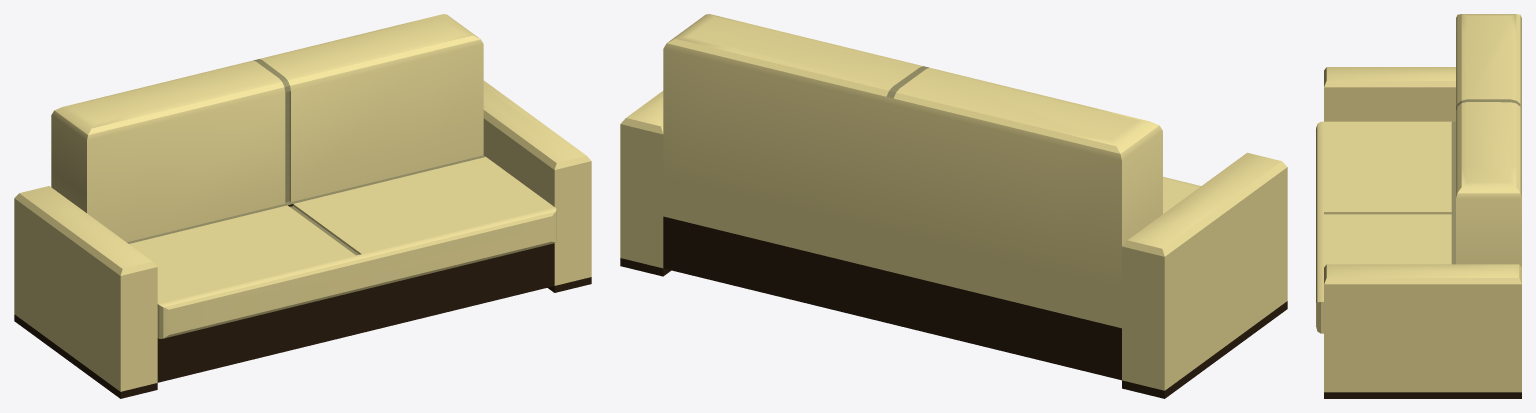
Rendered from sofa2.fbx.
3 renders of one model, left to right at view 1: azimuth 30°, elevation 25°; view 2: azimuth 150°, elevation 25°; view 3: azimuth 270°, elevation 25°, orthographic. The views are drawn at different scales.
Parts seen in each view (by area): view 1: Cube.064; view 2: Cube.064; view 3: Cube.064.
Boxes of the visible parts, x1,y1,x2,y2 form: Cube.064: (14, 14, 591, 398); Cube.064: (620, 14, 1287, 398); Cube.064: (1316, 14, 1521, 398).
Size of the model in its own units: 266 by 112 by 108.
